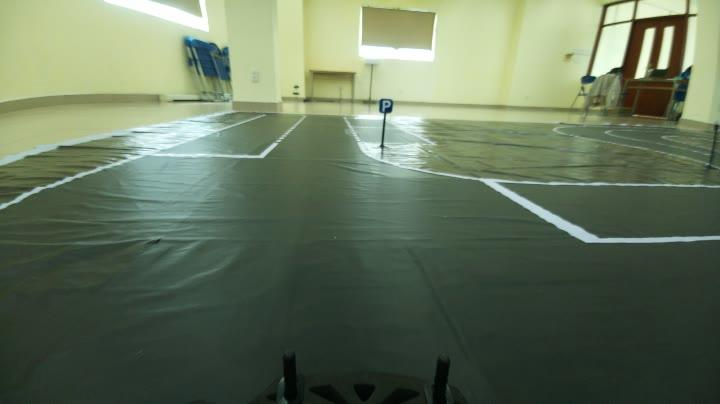parking: (373, 94, 398, 116)
